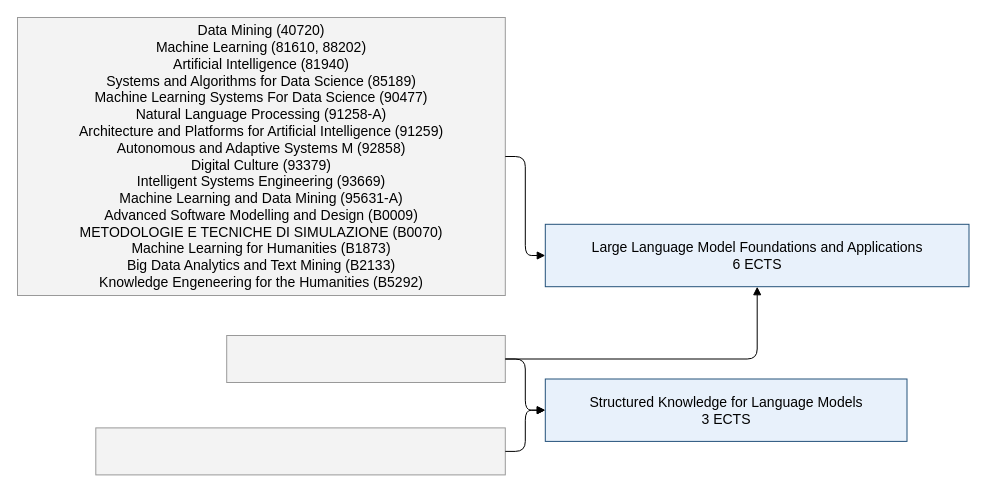
Some shapes in this 987 by 493 pixel diagram are drawn without their labels. The box of each missing label's shape, as (x1, y1, x2, y2) in pixels:
Knowledge Engineering (91265): (226, 334, 505, 382)
Knowledge Representation and Extraction (85446): (95, 427, 505, 475)
